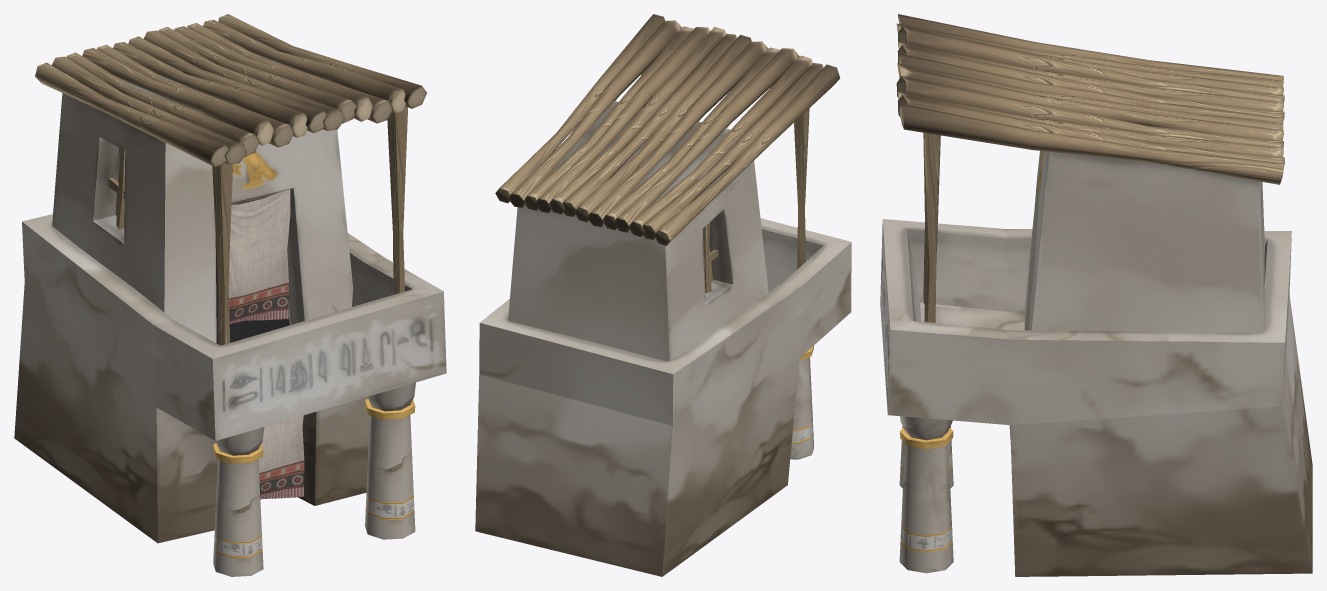
File: Egypt_Village_Buildings_09.FBX
3 views of the same model, side by side, from view 1: azimuth 30°, elevation 25°; view 2: azimuth 150°, elevation 25°; view 3: azimuth 270°, elevation 25° (orthographic). The views are drawn at different scales.
Parts seen in each view (by area): view 1: Egypt_Village_Buildings_09; view 2: Egypt_Village_Buildings_09; view 3: Egypt_Village_Buildings_09.
Boxes of the visible parts, <box> form: Egypt_Village_Buildings_09: <box>14,14,446,576</box>; Egypt_Village_Buildings_09: <box>475,14,851,576</box>; Egypt_Village_Buildings_09: <box>880,14,1312,576</box>.
Bounding box in the file's own units: 305 × 555 × 466.
